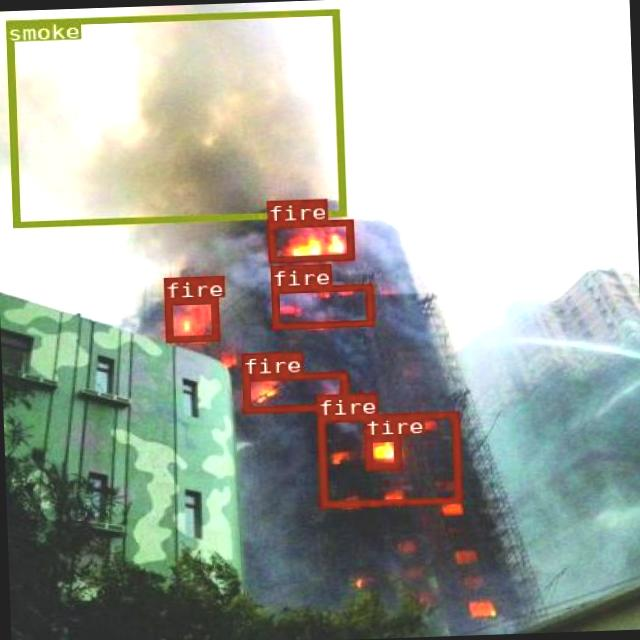fire: (316, 411, 461, 506), (270, 282, 372, 328), (240, 370, 346, 412), (266, 218, 352, 262), (163, 296, 218, 340), (363, 433, 400, 468)
smoke: (4, 8, 345, 226)
